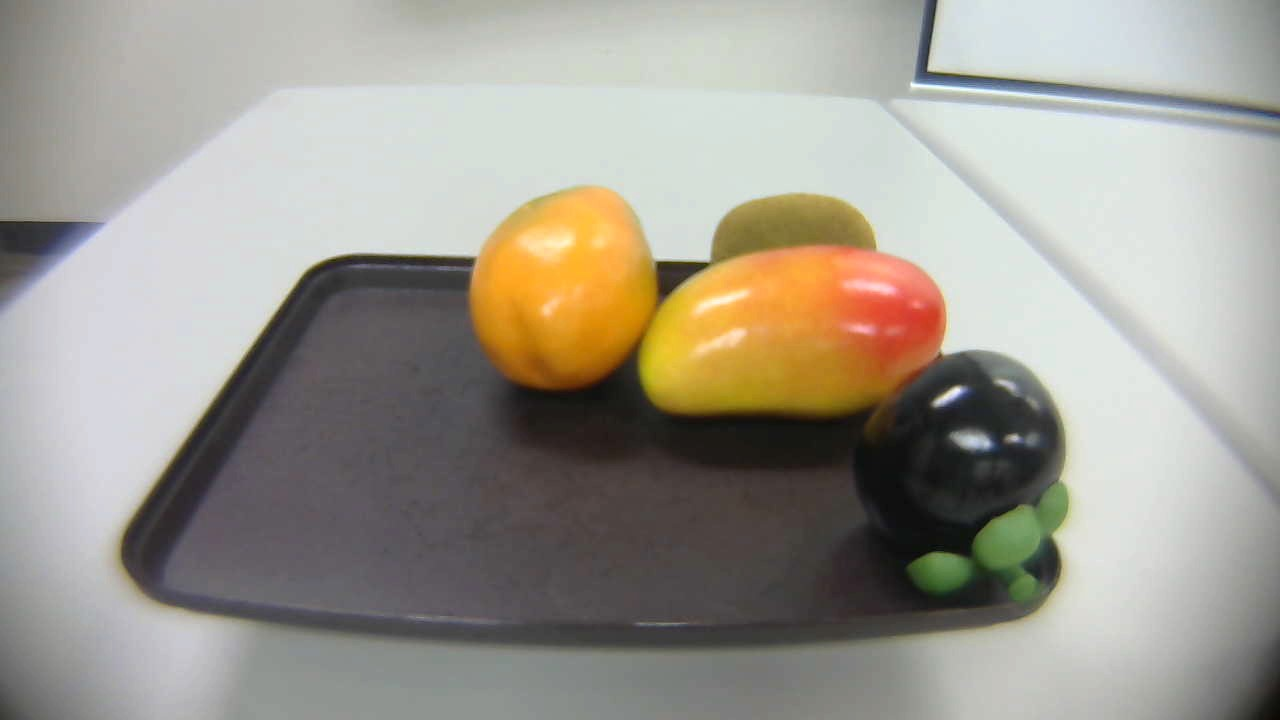kiwi fruit: (693, 176, 885, 298)
mangosteen: (853, 340, 1081, 615)
papya: (453, 176, 670, 414)
red mango: (637, 243, 947, 424)
